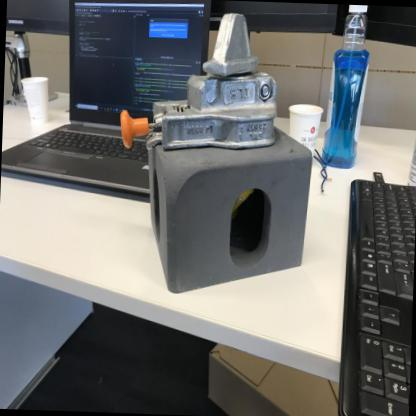CornerCasting: (136, 120, 316, 305)
Twistlock: (112, 5, 288, 160)
